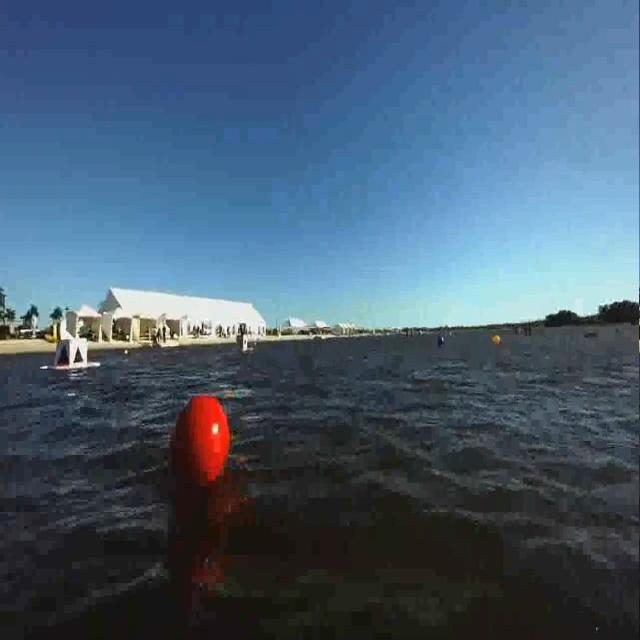red-buoy: (167, 393, 235, 492)
yellow-buoy: (492, 335, 501, 348)
